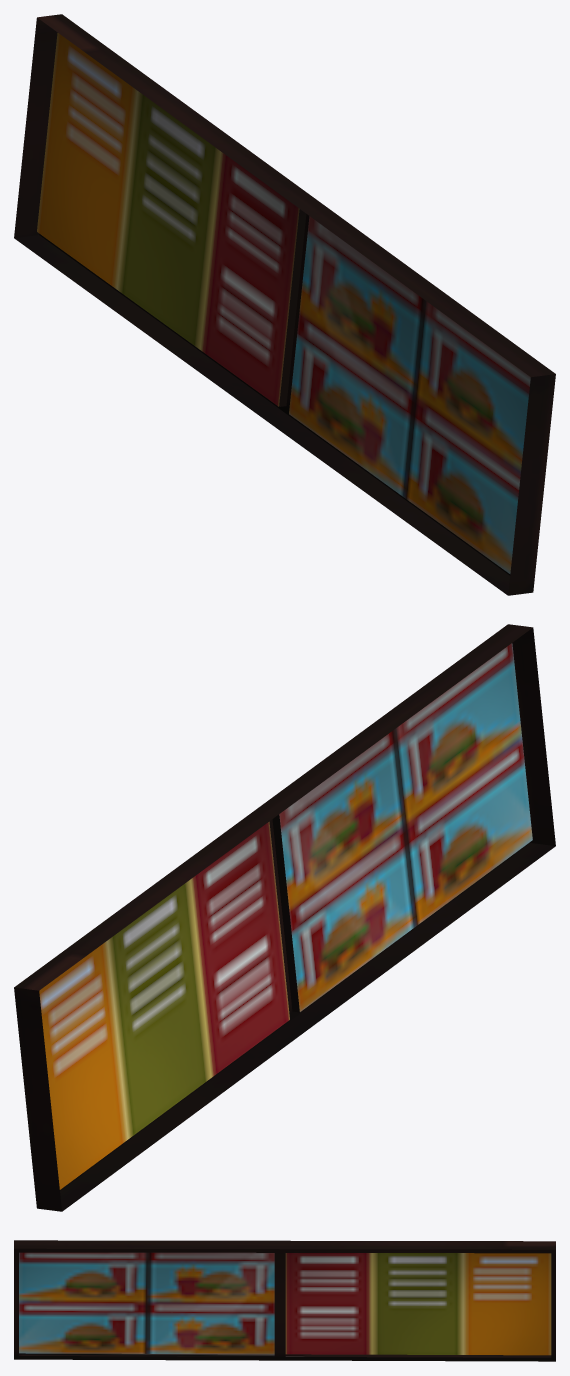
Rendered from Tx_props_burger_menu_40.fbx.
3 renders of one model, top to bottom at view 1: azimuth 30°, elevation 25°; view 2: azimuth 150°, elevation 25°; view 3: azimuth 270°, elevation 25°, orthographic. The views are drawn at different scales.
Parts seen in each view (by area): view 1: Tx_props_burger_menu; view 2: Tx_props_burger_menu; view 3: Tx_props_burger_menu.
Boxes of the visible parts, bbox=[...] form: Tx_props_burger_menu: bbox=[14, 14, 555, 595]; Tx_props_burger_menu: bbox=[14, 624, 555, 1211]; Tx_props_burger_menu: bbox=[14, 1240, 555, 1361].
Bounding box in the file's own units: 1.19 × 5.16 × 21.04.
